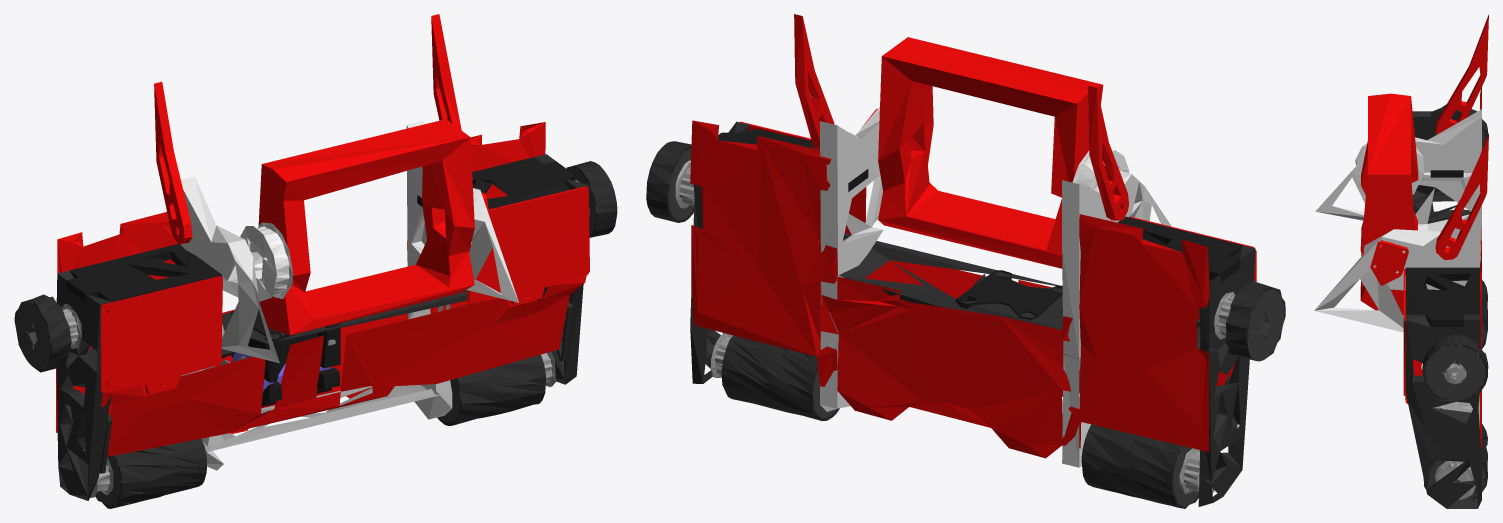
The model's file is rig.lod1.glb.
The picture shows the model from 3 angles, left to right: view 1: azimuth 30°, elevation 25°; view 2: azimuth 150°, elevation 25°; view 3: azimuth 270°, elevation 25°; orthographic projection. The views are drawn at different scales.
Visible parts, largest first — view 1: Central_Top_Plate_1, Revised-asymmetrical_weapon_v1_1, Core_Upright_Rail_Right_1, Front_Top_Plate_Left_1, Front_Top_Plate_Right_1, Outer_Wall_Rail_Left_1, MK3_Cast_Rear_Wheels_v9_1, Front_Wall_Left_1, MK3_Cast_Rear_Wheels_v9_1_1, Left_Bottom_Plate_1, MK3_Cast_Front_Wheels_v7_1, Front_Wall_Right_1 (+10 smaller); view 2: Central_Bottom_Plate_1, Left_Bottom_Plate_Mirror_1, Left_Bottom_Plate_1, Revised-asymmetrical_weapon_v1_1, Core_Upright_Rail_Right_1, Outer_Wall_Rail_Left_1, MK3_Cast_Rear_Wheels_v9_1, MK3_Cast_Rear_Wheels_v9_1_1, Central_Frame_Rail_1, MK3_Cast_Front_Wheels_v7_1, MK3_Cast_Front_Wheels_v6_Mirror_1, Rhino_Fork_v13_v2_1 (+8 smaller); view 3: Core_Upright_Rail_Right_1, Outer_Wall_Rail_Right_1, Revised-asymmetrical_weapon_v1_1, Front_Wall_Right_1, MK3_Cast_Front_Wheels_v6_Mirror_1, Rhino_Fork_v13_v2_2, Rhino_Fork_v13_v2_1, Shaft_End_Stop_Right_1, MK3_Cast_Rear_Wheels_v9_1_1, Front_Wall_Left_1, Outer_Wall_Rail_Left_1, 1277N771_Timing_Belt_Pulley_v2_1 (+5 smaller).
Part boxes in pixels (box(x1,y1,x2,y2)): Central_Top_Plate_1: box(100, 275, 586, 456); Revised-asymmetrical_weapon_v1_1: box(258, 119, 474, 335); Core_Upright_Rail_Right_1: box(180, 121, 518, 470); Front_Top_Plate_Left_1: box(100, 276, 222, 394); Front_Top_Plate_Right_1: box(467, 186, 589, 305); Outer_Wall_Rail_Left_1: box(56, 270, 111, 500); MK3_Cast_Rear_Wheels_v9_1: box(90, 438, 206, 508); Front_Wall_Left_1: box(66, 244, 221, 302); MK3_Cast_Rear_Wheels_v9_1_1: box(437, 351, 555, 425); Left_Bottom_Plate_1: box(56, 212, 177, 432); MK3_Cast_Front_Wheels_v7_1: box(14, 294, 81, 372); Front_Wall_Right_1: box(417, 157, 574, 209); Central_Bottom_Plate_1: box(820, 276, 1079, 458); Left_Bottom_Plate_Mirror_1: box(690, 120, 837, 386); Left_Bottom_Plate_1: box(1062, 214, 1209, 451); Revised-asymmetrical_weapon_v1_1: box(878, 37, 1103, 268); Core_Upright_Rail_Right_1: box(820, 106, 1171, 467); Outer_Wall_Rail_Left_1: box(1198, 245, 1255, 506); MK3_Cast_Rear_Wheels_v9_1: box(1081, 424, 1214, 508); MK3_Cast_Rear_Wheels_v9_1_1: box(710, 333, 839, 421); Central_Frame_Rail_1: box(839, 233, 1220, 358); MK3_Cast_Front_Wheels_v7_1: box(1214, 281, 1285, 361); MK3_Cast_Front_Wheels_v6_Mirror_1: box(646, 141, 694, 222); Rhino_Fork_v13_v2_1: box(1088, 85, 1128, 220); Core_Upright_Rail_Right_1: box(1314, 109, 1481, 412); Outer_Wall_Rail_Right_1: box(1405, 314, 1481, 508); Revised-asymmetrical_weapon_v1_1: box(1360, 93, 1418, 315); Front_Wall_Right_1: box(1405, 267, 1479, 326); MK3_Cast_Front_Wheels_v6_Mirror_1: box(1422, 335, 1488, 402); Rhino_Fork_v13_v2_2: box(1435, 133, 1488, 259); Rhino_Fork_v13_v2_1: box(1435, 14, 1488, 134); Shaft_End_Stop_Right_1: box(1370, 240, 1408, 285); MK3_Cast_Rear_Wheels_v9_1_1: box(1423, 424, 1487, 499); Front_Wall_Left_1: box(1413, 111, 1463, 177); Outer_Wall_Rail_Left_1: box(1412, 111, 1477, 220); 1277N771_Timing_Belt_Pulley_v2_1: box(1354, 143, 1424, 194).
Bounding box in the file's own units: 0.4441 × 0.2914 × 0.1352.
